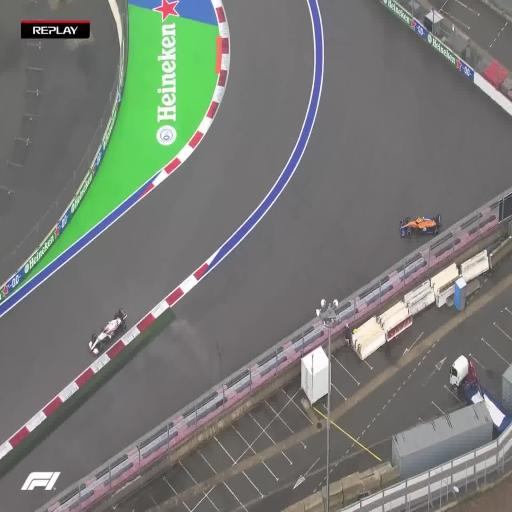f1_car: (88, 309, 127, 355), (400, 214, 441, 237)
